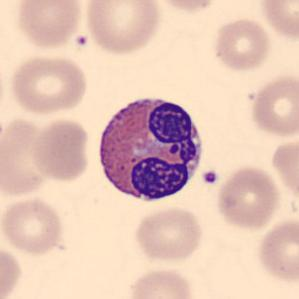Eosinophil: (91, 87, 209, 211)
Platelets: (201, 169, 219, 186)
RBC: (7, 53, 90, 117), (82, 0, 163, 57), (214, 164, 282, 231), (0, 113, 52, 200), (132, 204, 204, 265), (29, 116, 92, 185), (0, 195, 66, 256), (13, 0, 86, 52), (211, 16, 273, 74), (248, 72, 298, 139), (255, 217, 298, 285), (126, 266, 196, 299), (269, 135, 298, 204), (257, 0, 299, 43), (0, 245, 24, 298), (152, 0, 223, 13)
